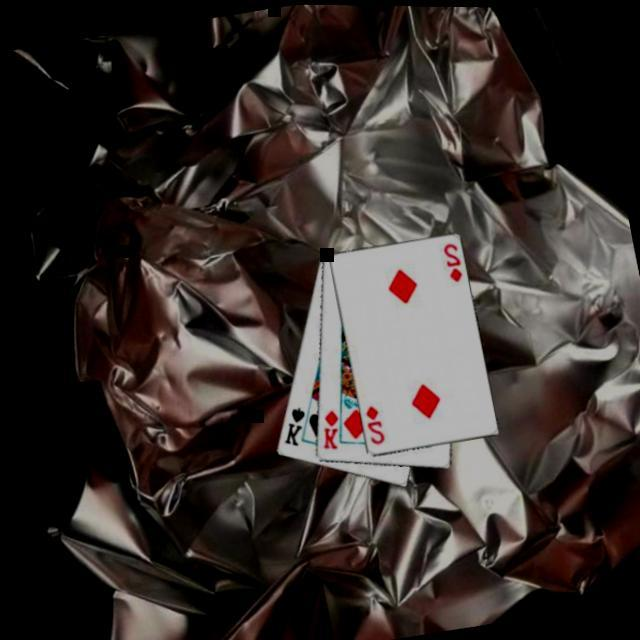2D: (439, 239, 466, 286), (360, 402, 387, 448)
KD: (312, 406, 346, 456)
KS: (273, 402, 313, 452)
